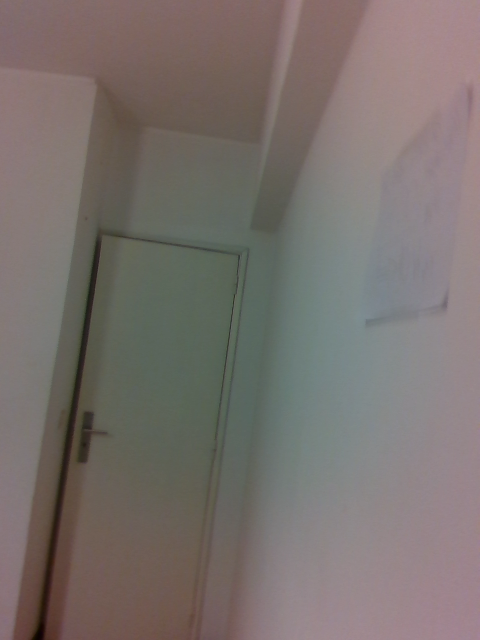closed: (42, 227, 246, 634)
